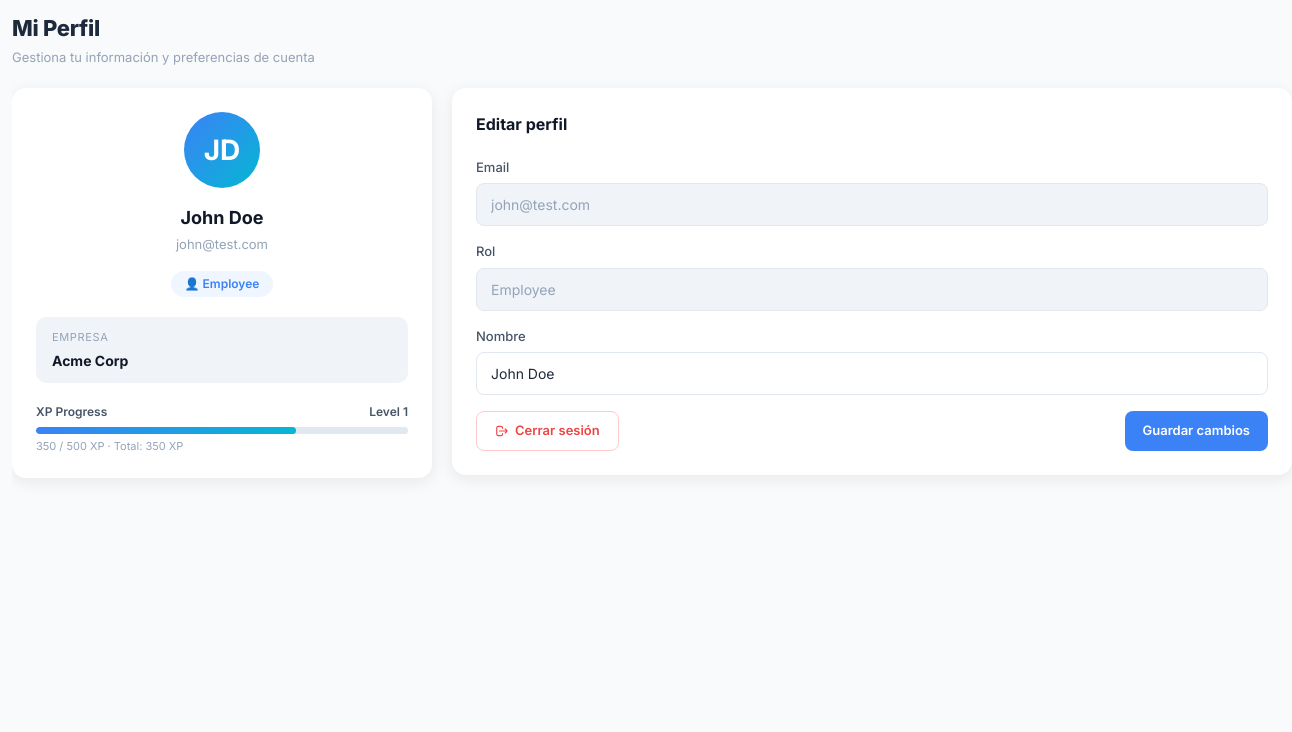
it: Profile › muestra mensaje de error si la API falla
Click the button "Guardar cambios" at coordinates (1196, 431), box [1124,411,1268,450]
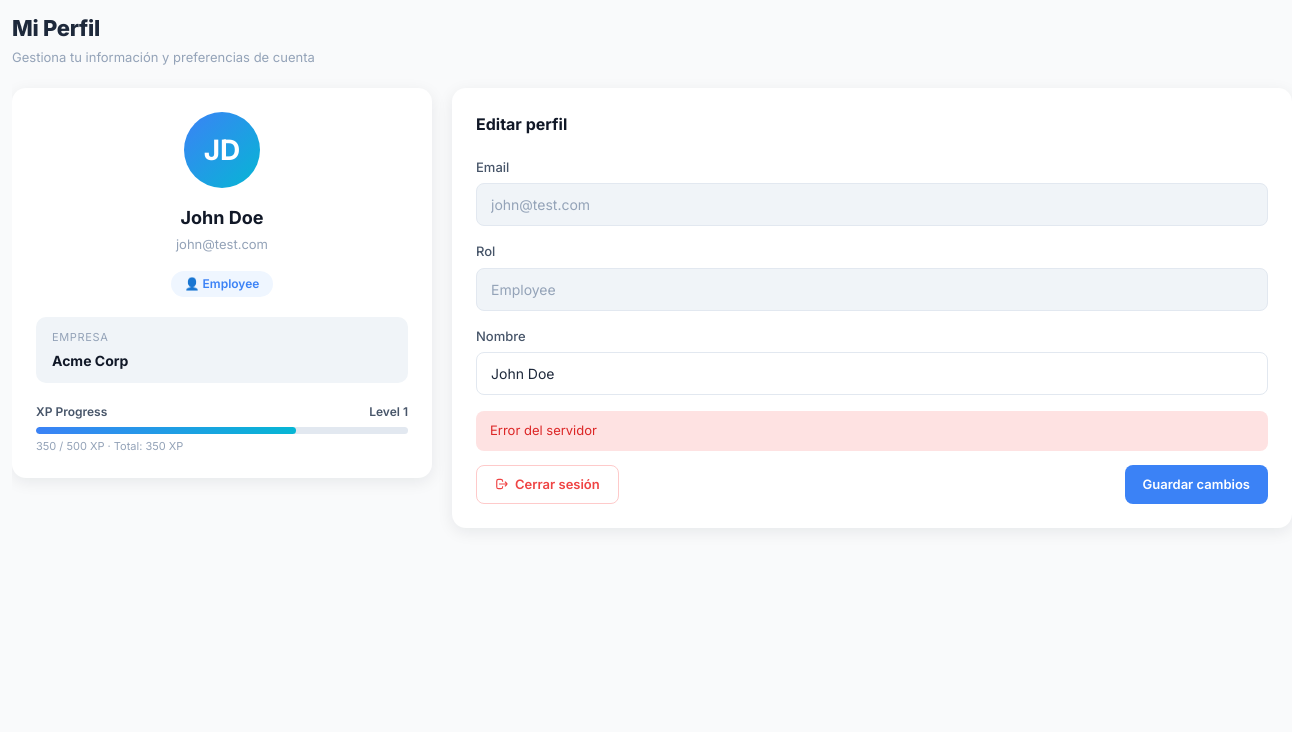
Check: the text "Error del servidor" is shown, box [476,411,1268,450]
